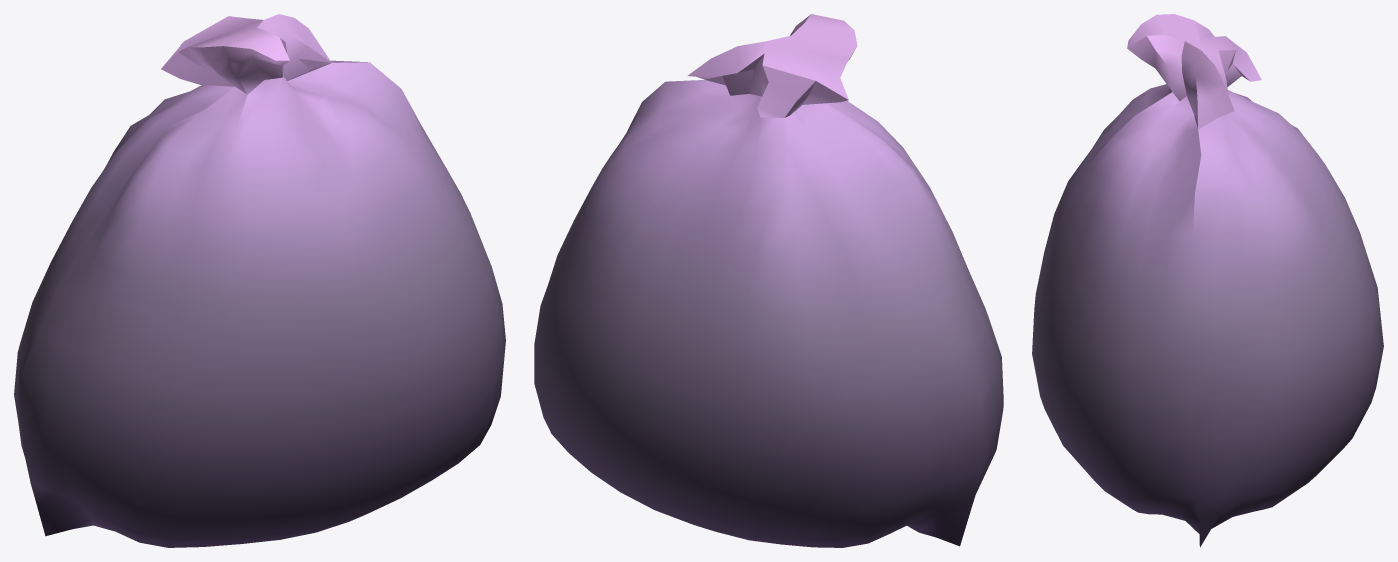
File: SM_Trashbag.fbx
3 renders of one model, left to right at view 1: azimuth 30°, elevation 25°; view 2: azimuth 150°, elevation 25°; view 3: azimuth 270°, elevation 25°, orthographic. The views are drawn at different scales.
Visible parts, largest first — view 1: SM_Trashbag; view 2: SM_Trashbag; view 3: SM_Trashbag.
Part boxes in pixels (x1,y1,x2,y2): SM_Trashbag: (14, 14, 505, 547); SM_Trashbag: (534, 14, 1003, 547); SM_Trashbag: (1032, 14, 1383, 547).
Size of the model in its own units: 46.63 by 50 by 35.74.
